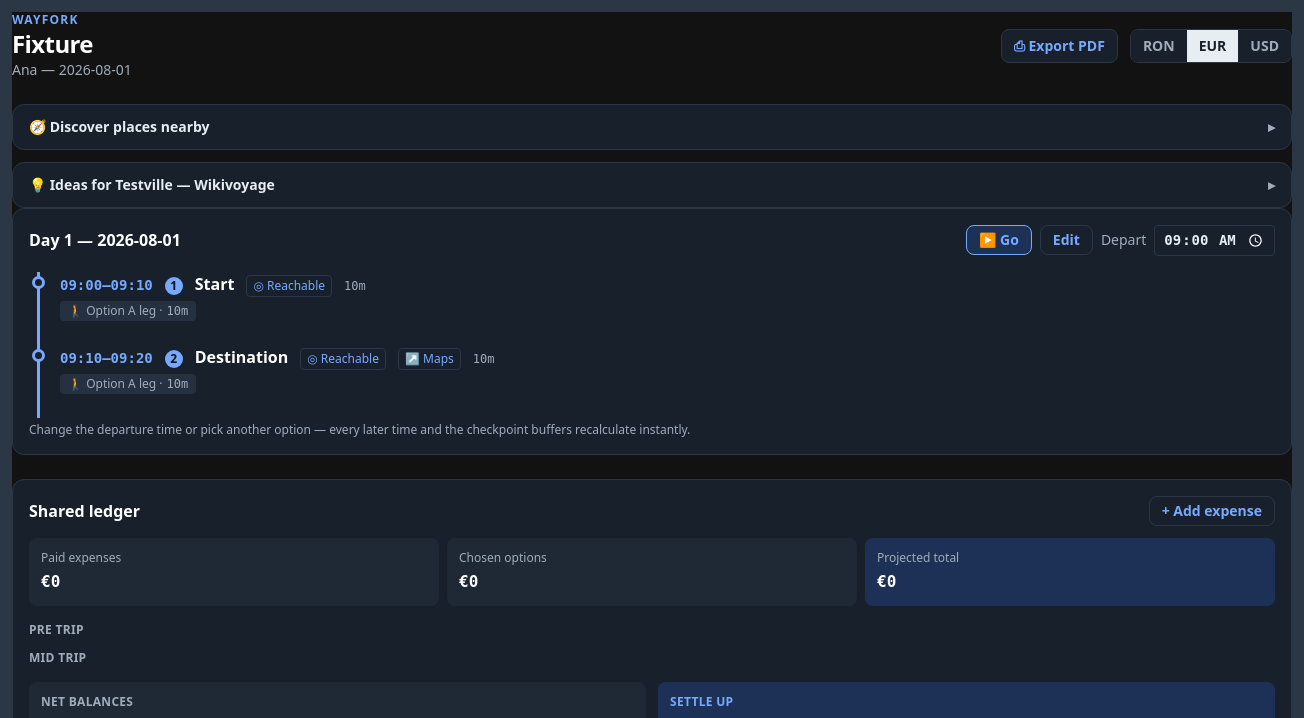
Test: TripView — 🚆 Transit option › only offers the button on a slot that has an earlier slot
The image size is (1304, 718).
Click the button "Edit" at (1066, 240), box 1040,225 -> 1093,255
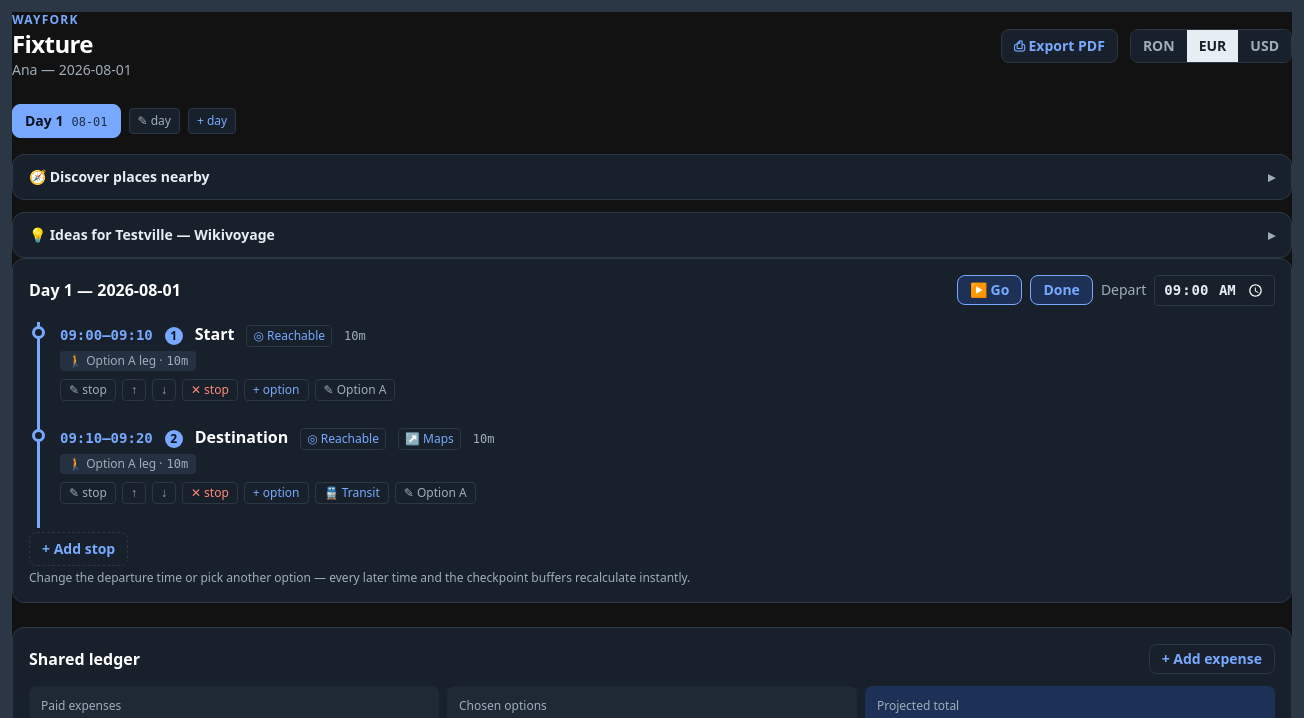
Now the number of buttons "🚆 Transit" is 1, box 314,482 -> 389,504
